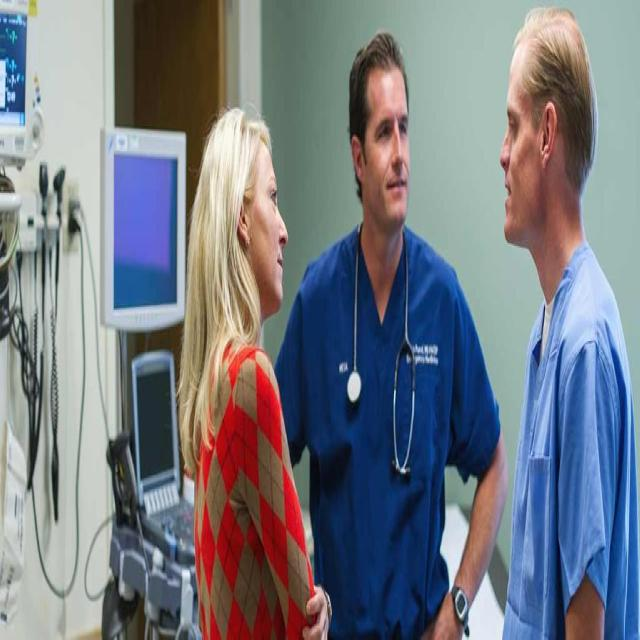Face: (358, 62, 423, 230), (494, 50, 551, 230), (253, 147, 301, 304)
